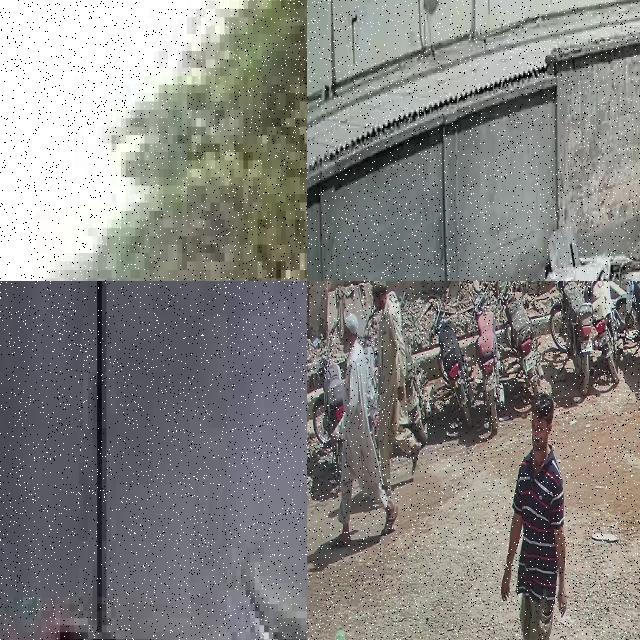bike: (0, 281, 307, 640), (433, 281, 475, 430), (499, 281, 544, 396), (549, 281, 594, 394), (472, 281, 505, 429), (312, 320, 343, 475), (401, 293, 431, 443), (582, 281, 623, 382), (615, 281, 640, 380)
